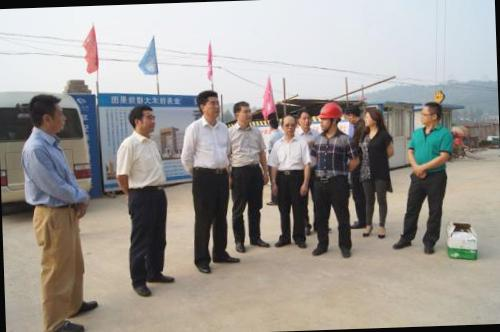no_helmet: (25, 89, 66, 138), (128, 101, 157, 136), (193, 87, 222, 122), (414, 97, 444, 128), (230, 98, 254, 128), (362, 104, 384, 136), (295, 106, 315, 132), (344, 101, 364, 126), (281, 110, 297, 136), (267, 114, 283, 132)
